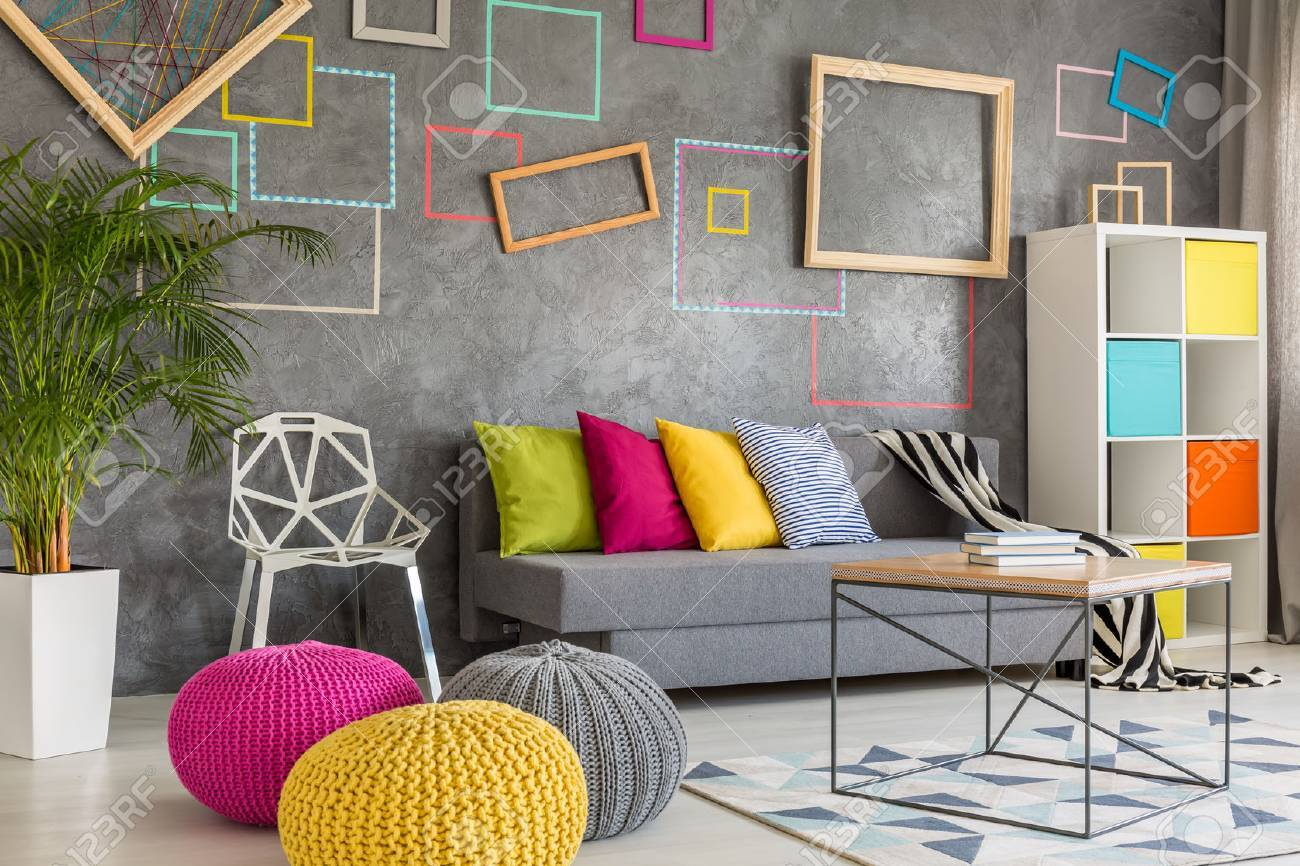biru: (1112, 344, 1182, 431)
hijau: (477, 424, 600, 549)
kuning: (280, 700, 590, 864), (675, 421, 797, 554), (1185, 240, 1252, 342)
merah: (583, 415, 692, 550)
orange: (1190, 435, 1257, 537)
pink: (171, 631, 339, 760)
putih: (228, 408, 427, 638), (2, 568, 125, 762)
